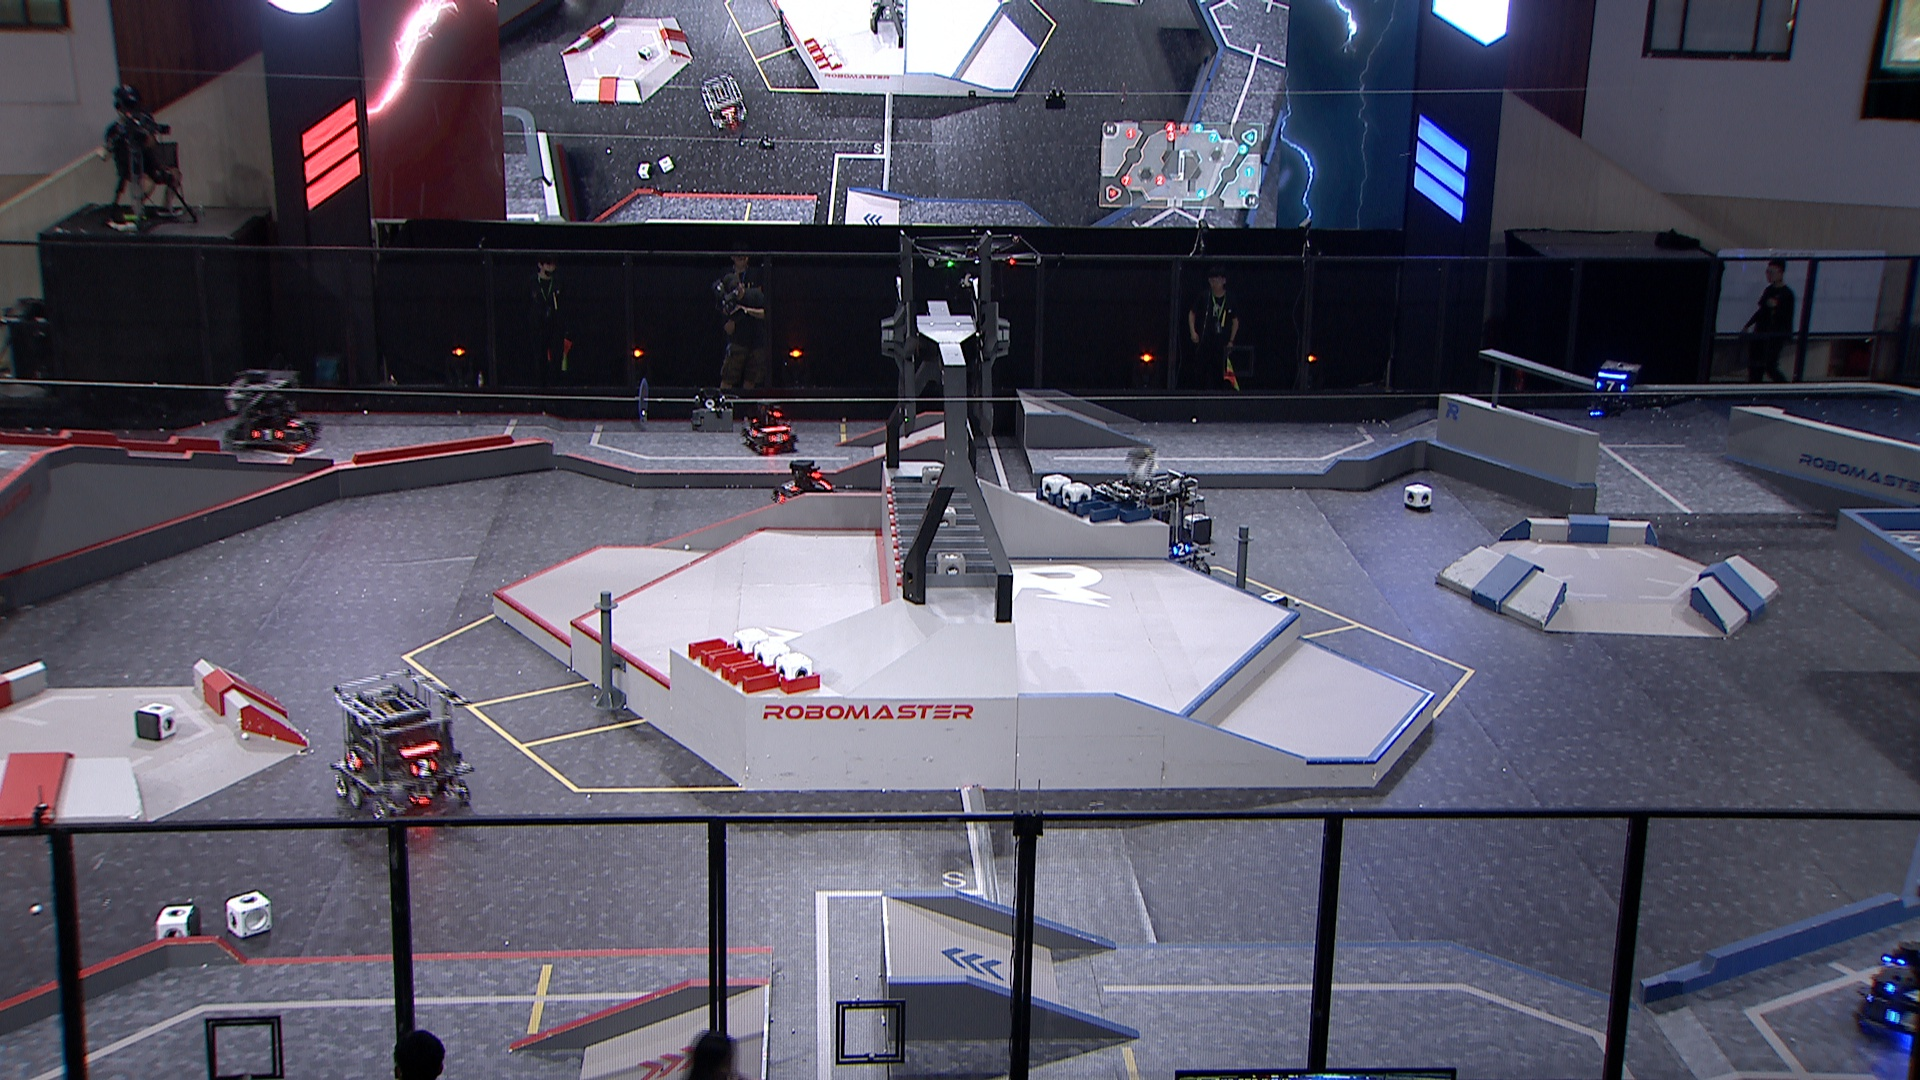armor: (1884, 1005, 1920, 1035), (1887, 977, 1920, 1007), (1590, 377, 1629, 398), (252, 425, 285, 446), (409, 756, 439, 778), (285, 409, 309, 431), (343, 749, 363, 771), (1171, 538, 1191, 556), (779, 477, 800, 495), (766, 431, 789, 446), (746, 425, 764, 439)
car: (328, 673, 479, 823), (1105, 467, 1211, 578), (224, 367, 327, 455), (1854, 936, 1920, 1043), (770, 455, 843, 516), (742, 405, 798, 454)
ignore: (698, 74, 752, 136)
watcher: (1585, 357, 1643, 419)
